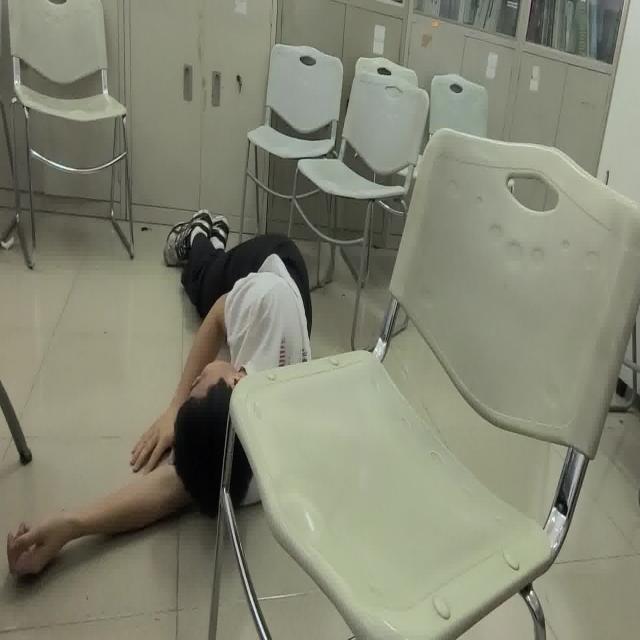fall: (8, 205, 314, 578)
